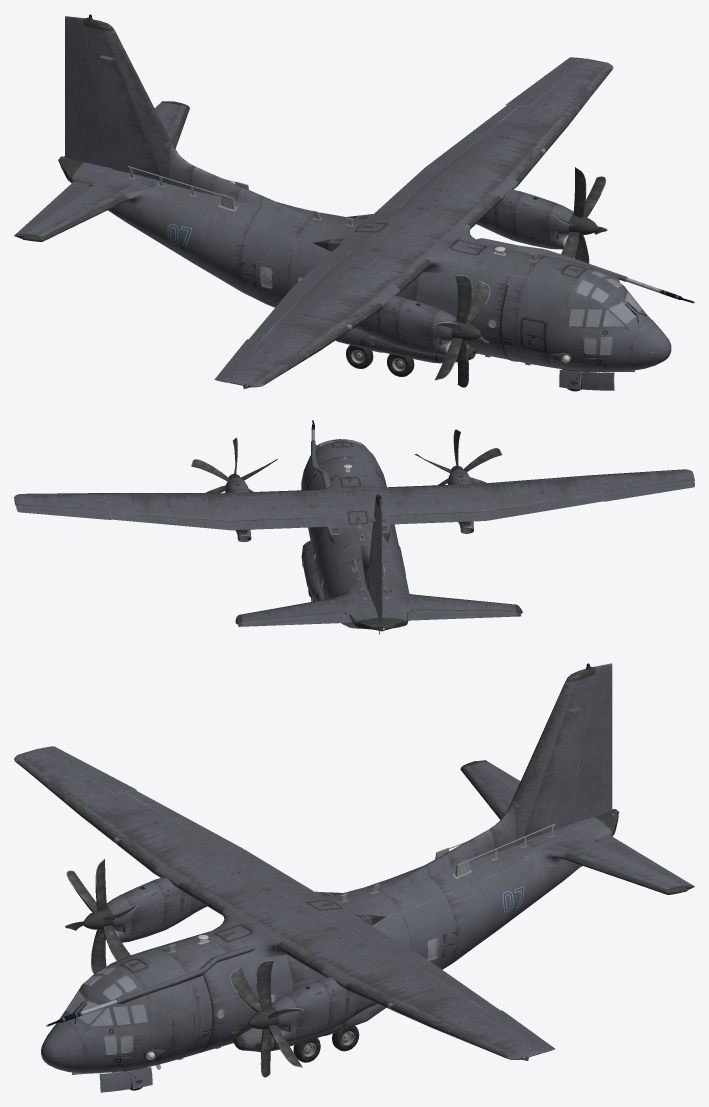
Rendered from c-27j_spartan__broken_arrow.glb.
3 renders of one model, top to bottom at view 1: azimuth 30°, elevation 25°; view 2: azimuth 150°, elevation 25°; view 3: azimuth 270°, elevation 25°, orthographic. The views are drawn at different scales.
Visible parts, largest first — view 1: Object_3, Object_4, Object_2; view 2: Object_3, Object_4; view 3: Object_3, Object_4, Object_2.
Boxes of the visible parts, x1,y1,x2,y2 form: Object_3: (14, 14, 694, 388); Object_4: (242, 167, 634, 391); Object_2: (260, 267, 641, 354); Object_3: (14, 420, 694, 634); Object_4: (191, 429, 502, 601); Object_3: (14, 663, 694, 1073); Object_4: (65, 858, 453, 1092); Object_2: (66, 938, 438, 1054).
Bounding box in the file's own units: 24.26 × 10.35 × 22.24.
Materials: 2 (1 with a texture image).
